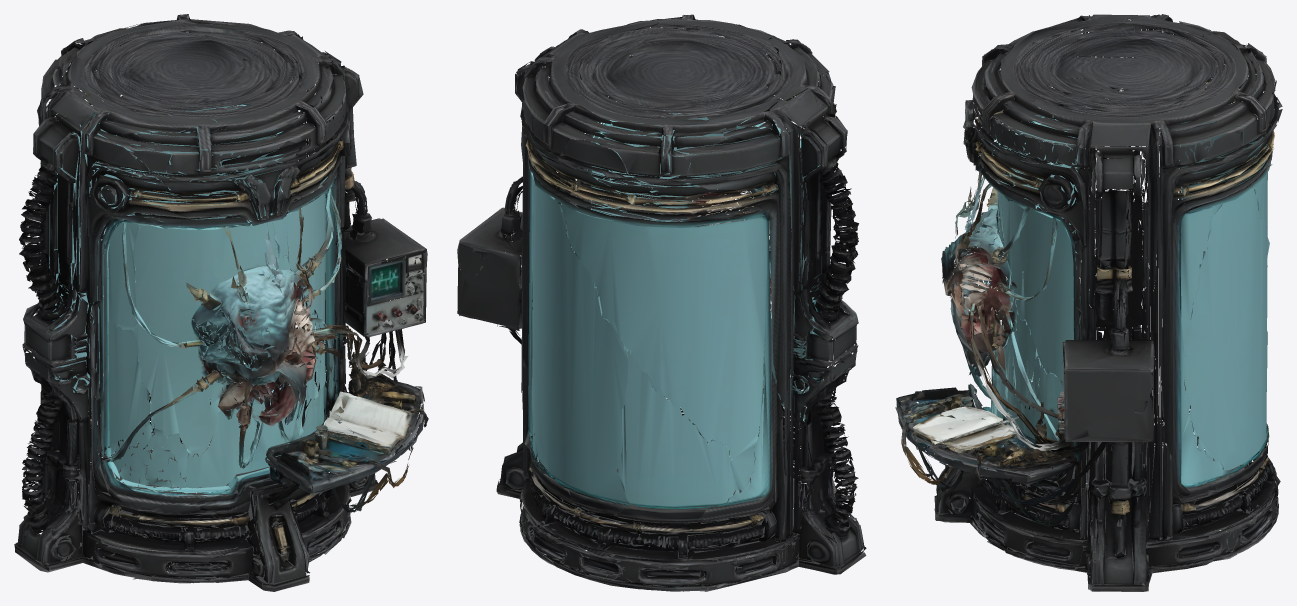
The model's file is vass_acoustic_resonator_tank.glb.
The picture shows the model from 3 angles, left to right: view 1: azimuth 30°, elevation 25°; view 2: azimuth 150°, elevation 25°; view 3: azimuth 270°, elevation 25°; orthographic projection. The views are drawn at different scales.
Parts seen in each view (by area): view 1: node_0; view 2: node_0; view 3: node_0.
Boxes of the visible parts, x1,y1,x2,y2 form: node_0: [14, 14, 428, 591]; node_0: [457, 14, 866, 591]; node_0: [895, 14, 1282, 591].
Size of the model in its own units: 0.7953 by 0.9036 by 0.7114.
Materials: 1 (1 with a texture image).
